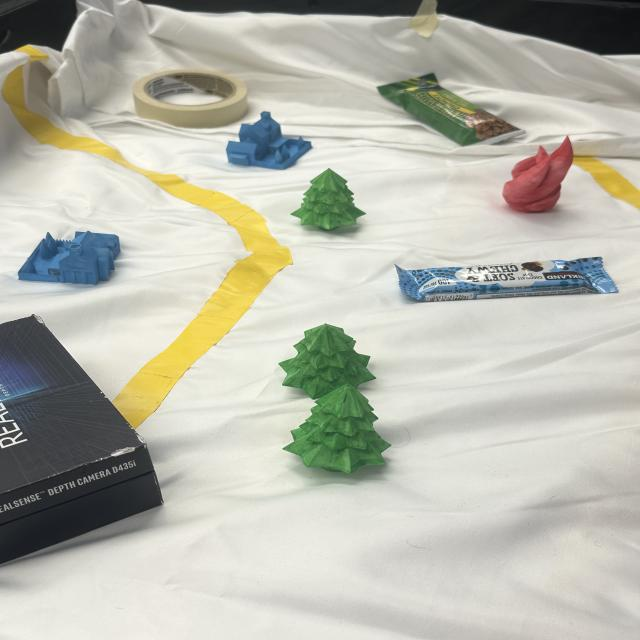fire: (500, 133, 576, 215)
house: (226, 108, 320, 170), (19, 228, 123, 284)
tree: (284, 384, 391, 475), (275, 321, 374, 398), (292, 166, 369, 233)
